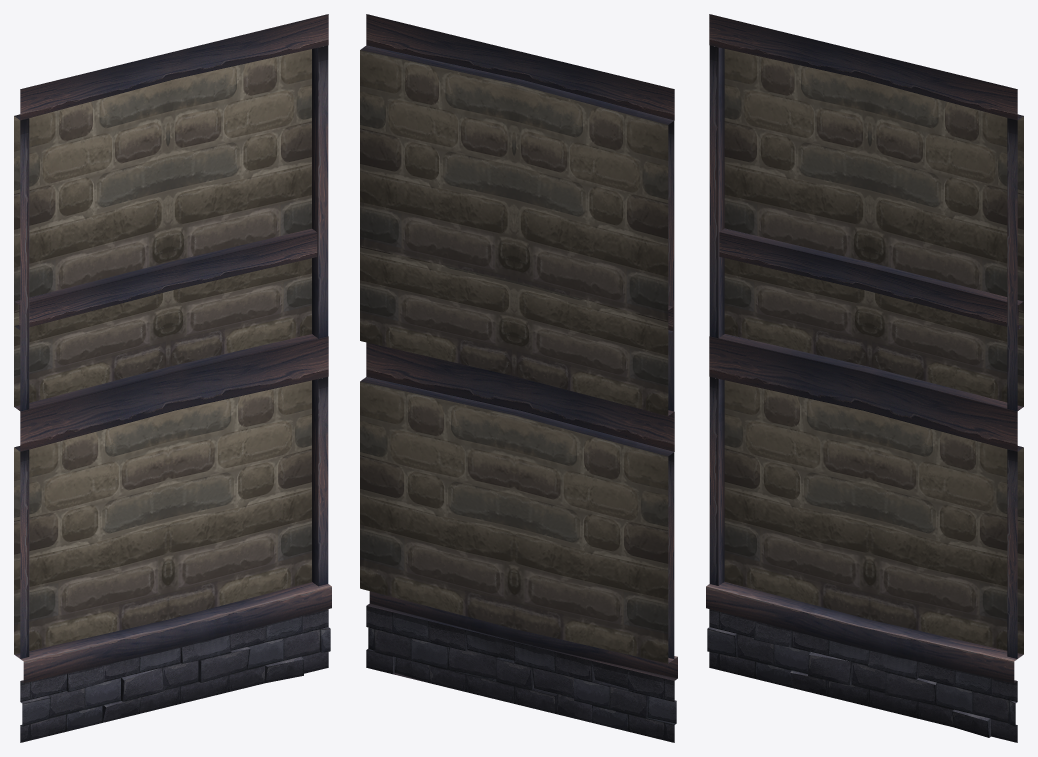
The model's file is Wall_1sided_detailed_2Floors_Bricks.fbx.
The picture shows the model from 3 angles, left to right: view 1: azimuth 30°, elevation 25°; view 2: azimuth 150°, elevation 25°; view 3: azimuth 330°, elevation 25°; orthographic projection.
Visible parts, largest first — view 1: Wall_1sided_detailed_2Floors_Bricks; view 2: Wall_1sided_detailed_2Floors_Bricks; view 3: Wall_1sided_detailed_2Floors_Bricks.
Part boxes in pixels (x1,y1,x2,y2): Wall_1sided_detailed_2Floors_Bricks: (14, 14, 331, 742); Wall_1sided_detailed_2Floors_Bricks: (360, 14, 677, 742); Wall_1sided_detailed_2Floors_Bricks: (706, 14, 1023, 742).
Bounding box in the file's own units: 0.6266 × 1.27 × 0.0339.
